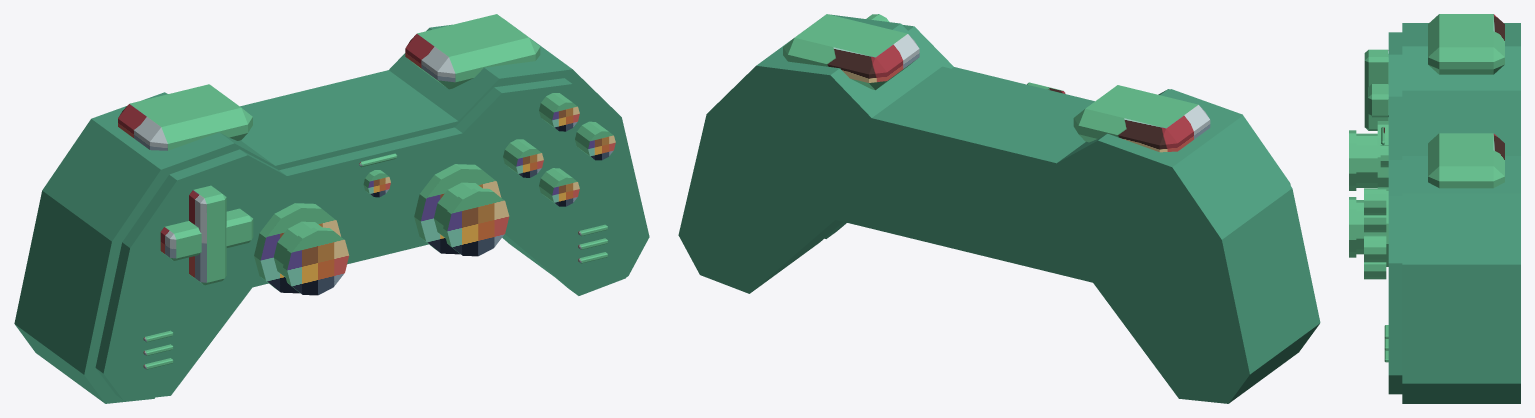
The model's file is Game_Controller.fbx.
3 views of the same model, side by side, from view 1: azimuth 30°, elevation 25°; view 2: azimuth 150°, elevation 25°; view 3: azimuth 270°, elevation 25° (orthographic). The views are drawn at different scales.
Visible parts, largest first — view 1: Game_Controller; view 2: Game_Controller; view 3: Game_Controller.
Part boxes in pixels (x1,y1,x2,y2): Game_Controller: (14, 14, 649, 403); Game_Controller: (678, 14, 1320, 403); Game_Controller: (1349, 14, 1520, 403).
Bounding box in the file's own units: 346 × 146 × 107.
Materials: 1 (1 with a texture image).
